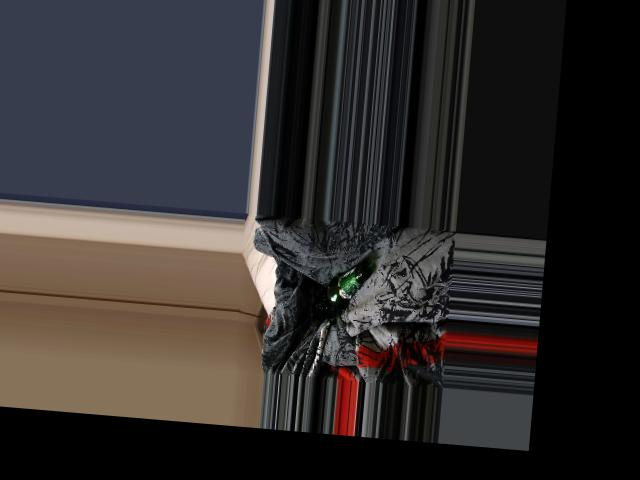beer: (312, 258, 372, 325)
